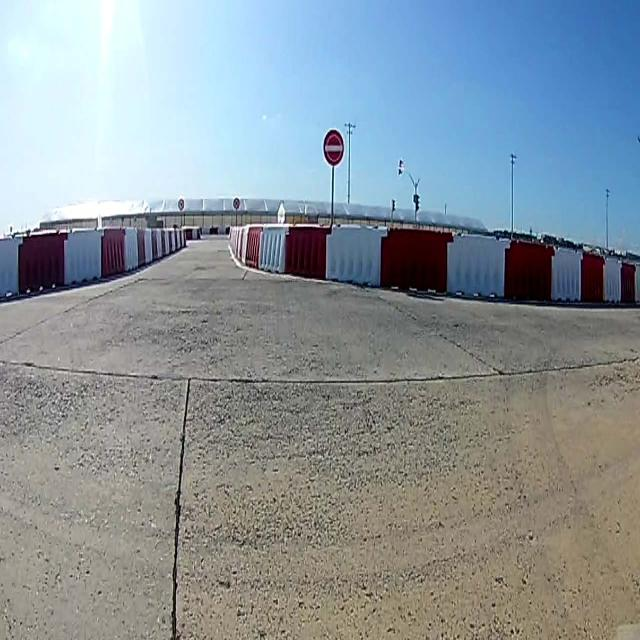girisyok: (324, 132, 343, 162)
